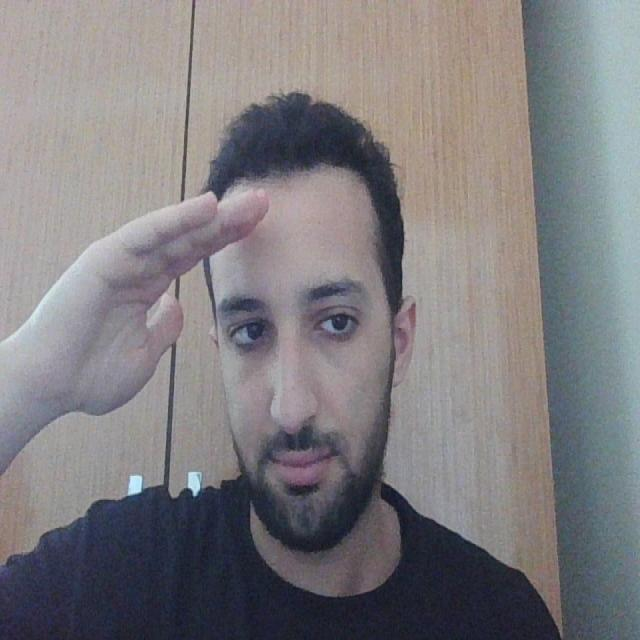Merhaba: (36, 171, 272, 505)
